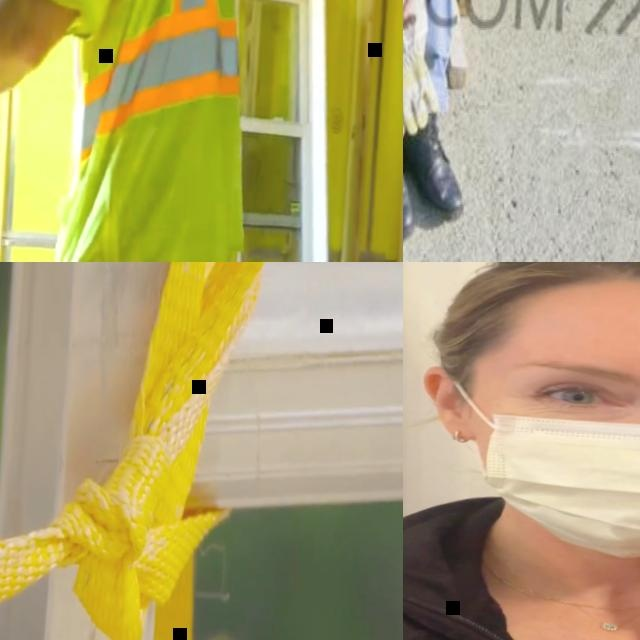Mask: (446, 361, 640, 559)
NO-Hardhat: (451, 262, 640, 337)
NO-Safety Vest: (403, 533, 640, 640)
Person: (403, 262, 640, 640), (0, 0, 254, 262), (403, 0, 491, 247)
Safety Vest: (0, 0, 267, 262)
